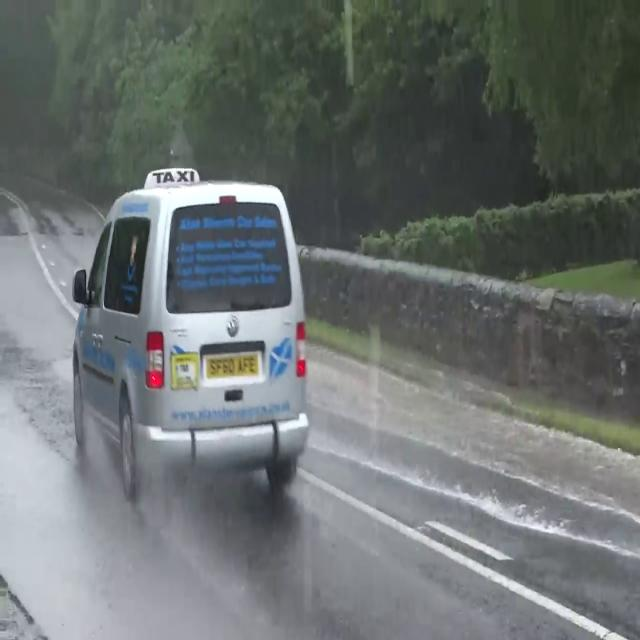license-plate-annotation: (202, 352, 272, 382)
